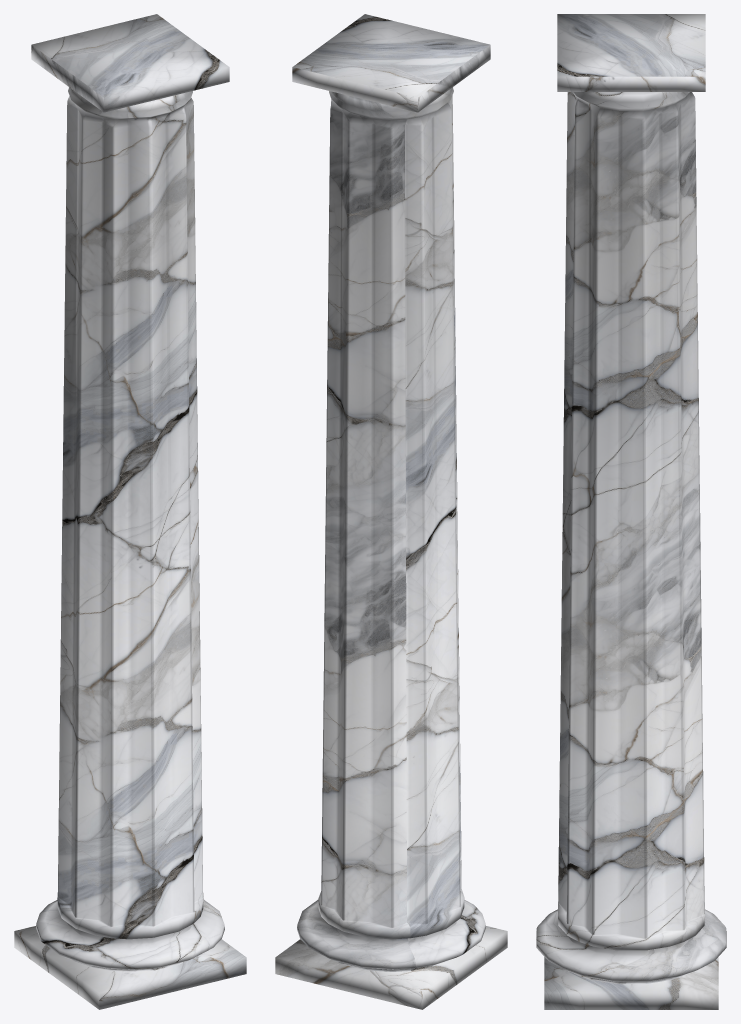
Rendered from mdl_apa_column.gltf.
The picture shows the model from 3 angles, left to right: view 1: azimuth 30°, elevation 25°; view 2: azimuth 150°, elevation 25°; view 3: azimuth 270°, elevation 25°; orthographic projection. The views are drawn at different scales.
Parts seen in each view (by area): view 1: Column_01; view 2: Column_01; view 3: Column_01.
Boxes of the visible parts, <box> form: Column_01: <box>14,14,246,1009</box>; Column_01: <box>275,14,507,1009</box>; Column_01: <box>536,14,726,1009</box>.
Size of what is drawn, in the model's own units: 2.18 by 11.75 by 2.18.
Materials: 1 (1 with a texture image).
